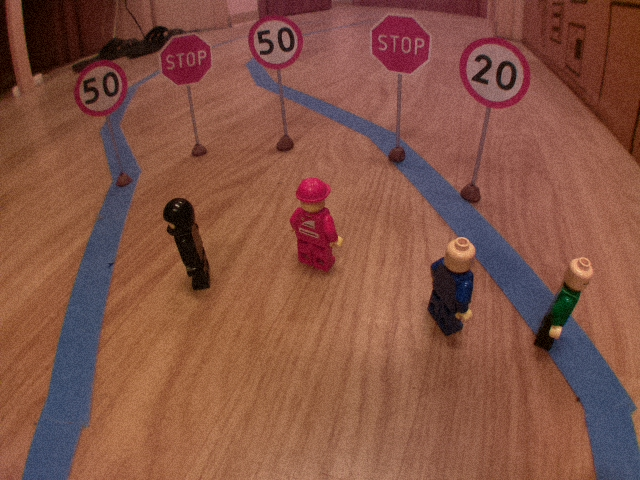LEGO_person: (529, 248, 597, 363), (419, 232, 481, 345), (286, 174, 352, 278)
ogr_20: (455, 31, 536, 113)
ogr_50: (246, 13, 306, 72), (71, 59, 130, 119)
stop: (367, 11, 435, 80), (157, 31, 216, 89)
